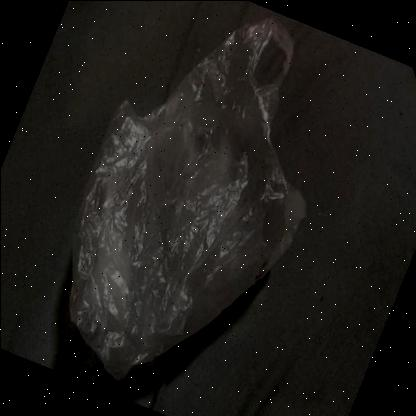Others: (68, 18, 306, 384)
